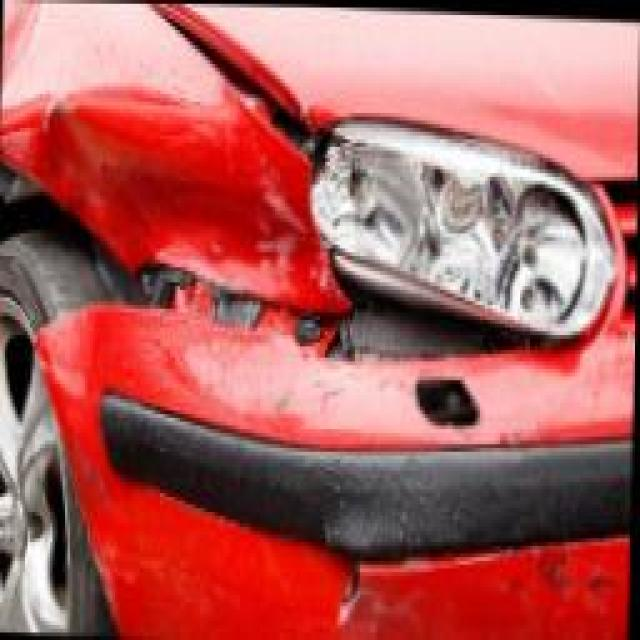Bumper: (58, 320, 564, 639)
Fender: (48, 49, 335, 306)
